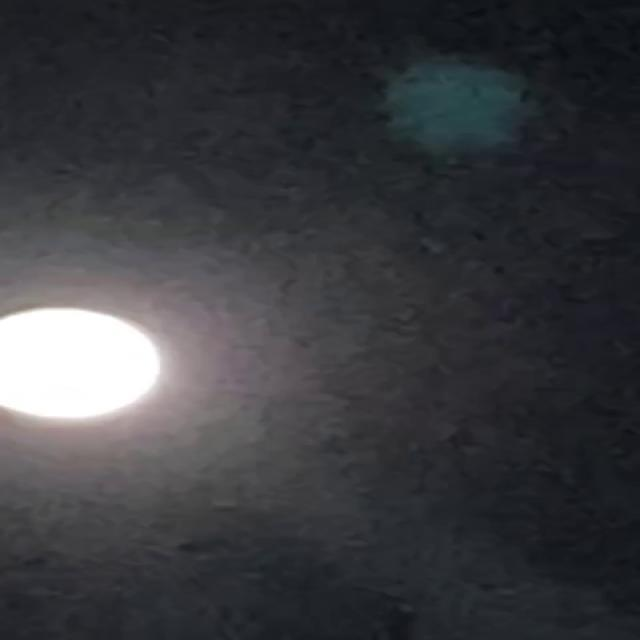moon: (0, 295, 169, 423)
